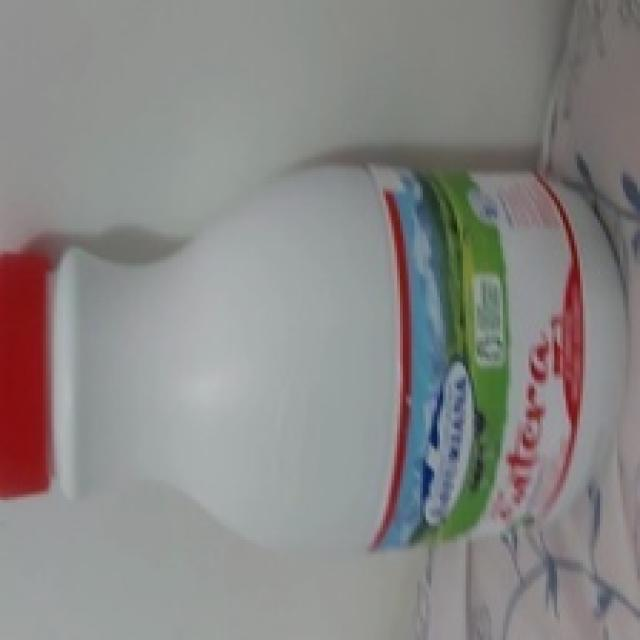Plastic: (0, 162, 625, 557)
